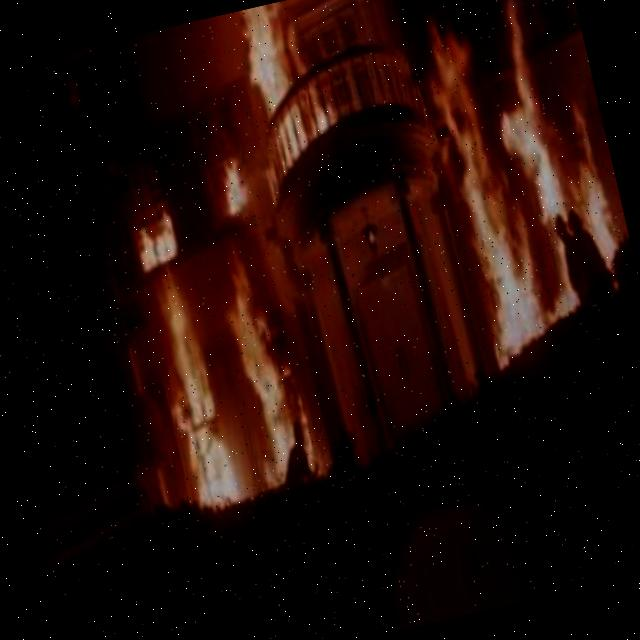fire: (385, 0, 640, 369), (201, 242, 336, 497), (125, 261, 259, 515), (115, 180, 201, 284), (208, 127, 267, 231)
